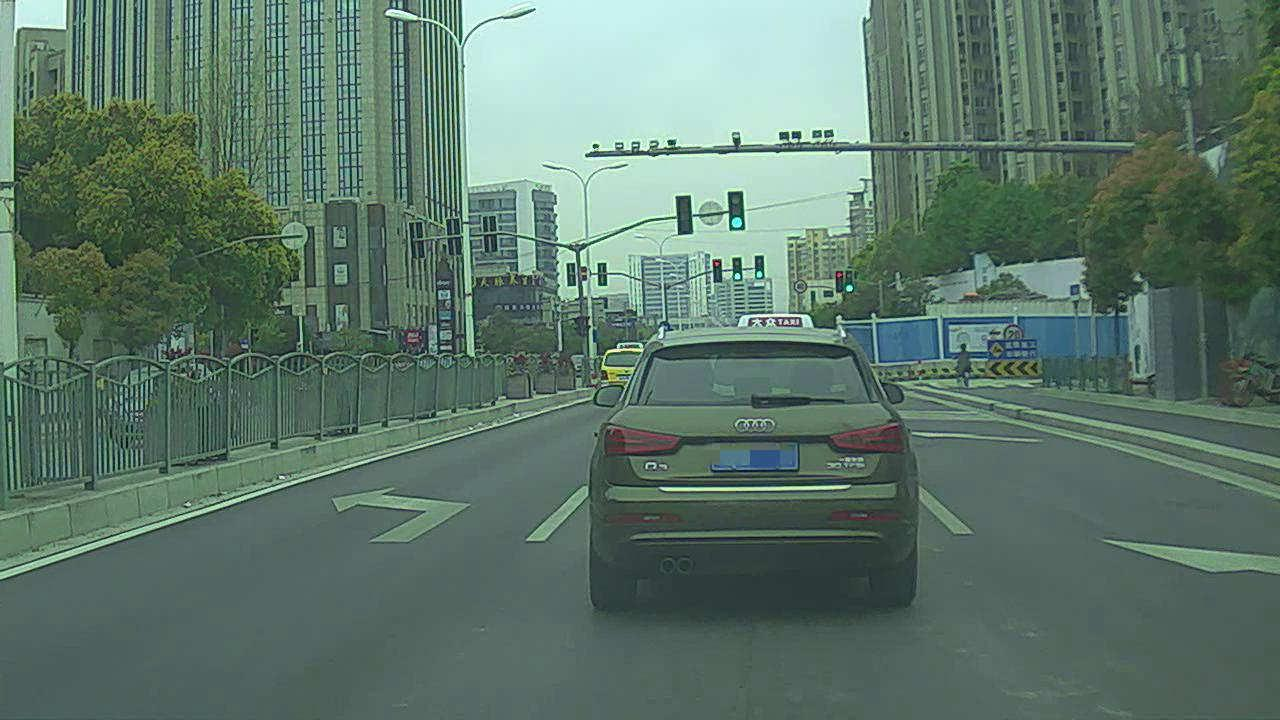traffic_light: (675, 193, 694, 236), (728, 190, 744, 232), (731, 258, 744, 281), (713, 259, 724, 284), (755, 254, 765, 279), (845, 271, 855, 293), (836, 271, 844, 292)
